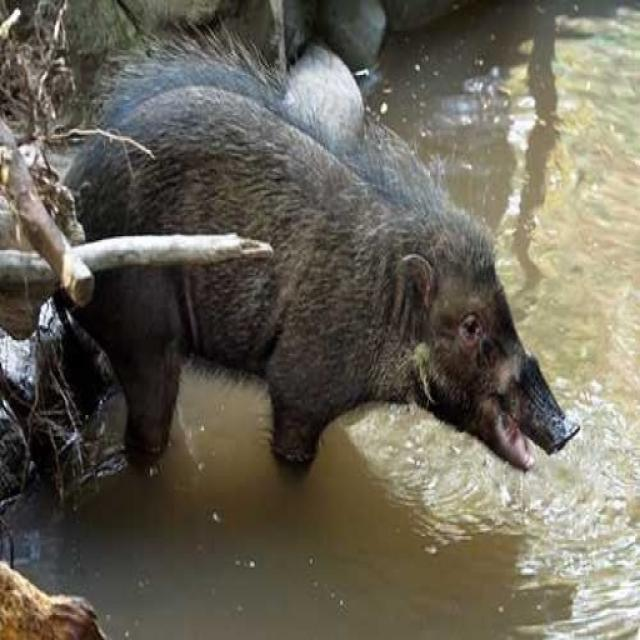pig: (47, 40, 599, 548)
